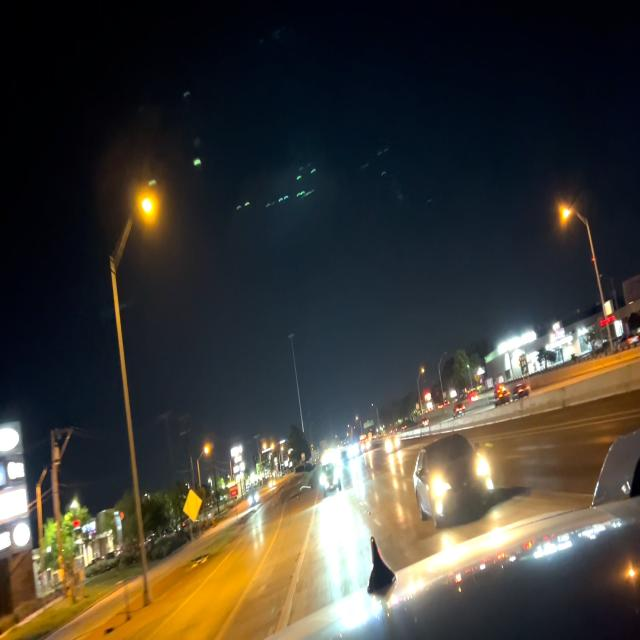back-of-sign: (182, 490, 203, 524)
